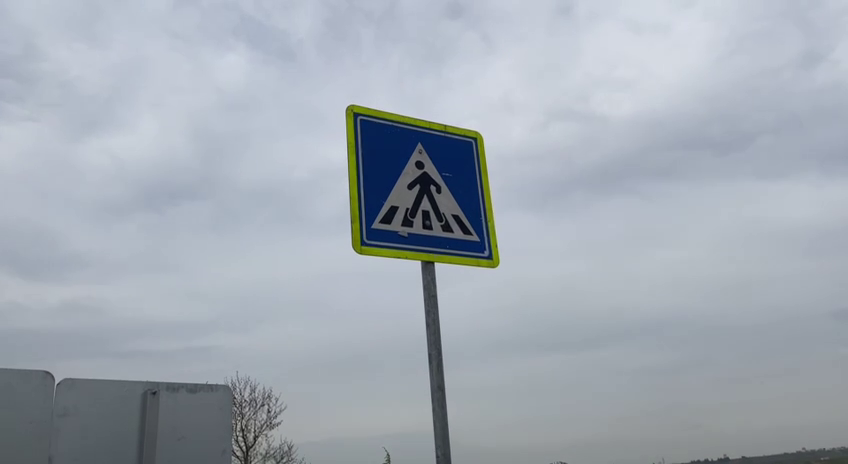pedestrianCrossing: (343, 102, 503, 271)
